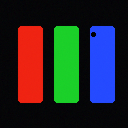0 point: (91, 32, 95, 36)
